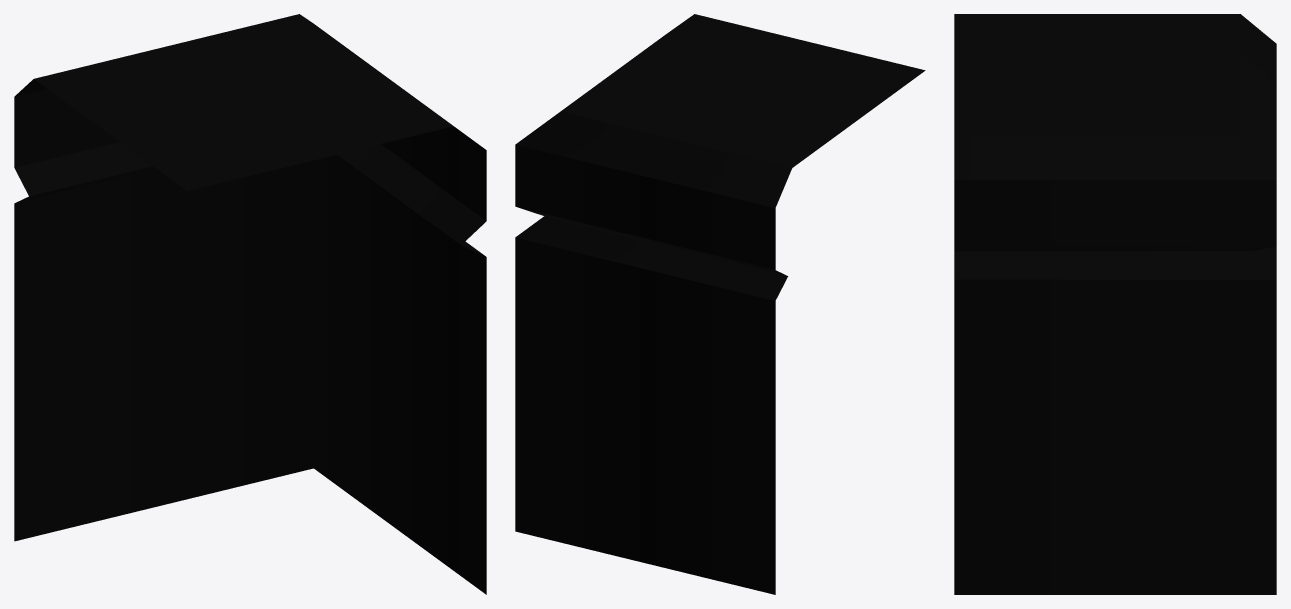
The model's file is Model_Environment_WallGroundCorner.fbx.
3 views of the same model, side by side, from view 1: azimuth 30°, elevation 25°; view 2: azimuth 150°, elevation 25°; view 3: azimuth 270°, elevation 25° (orthographic). The views are drawn at different scales.
Visible parts, largest first — view 1: WallGroundCorner_low; view 2: WallGroundCorner_low; view 3: WallGroundCorner_low.
Part boxes in pixels (bbox=[...]): WallGroundCorner_low: bbox=[14, 14, 486, 594]; WallGroundCorner_low: bbox=[515, 14, 925, 594]; WallGroundCorner_low: bbox=[954, 14, 1276, 594].
Bounding box in the file's own units: 0.3286 × 0.5 × 0.3286.
